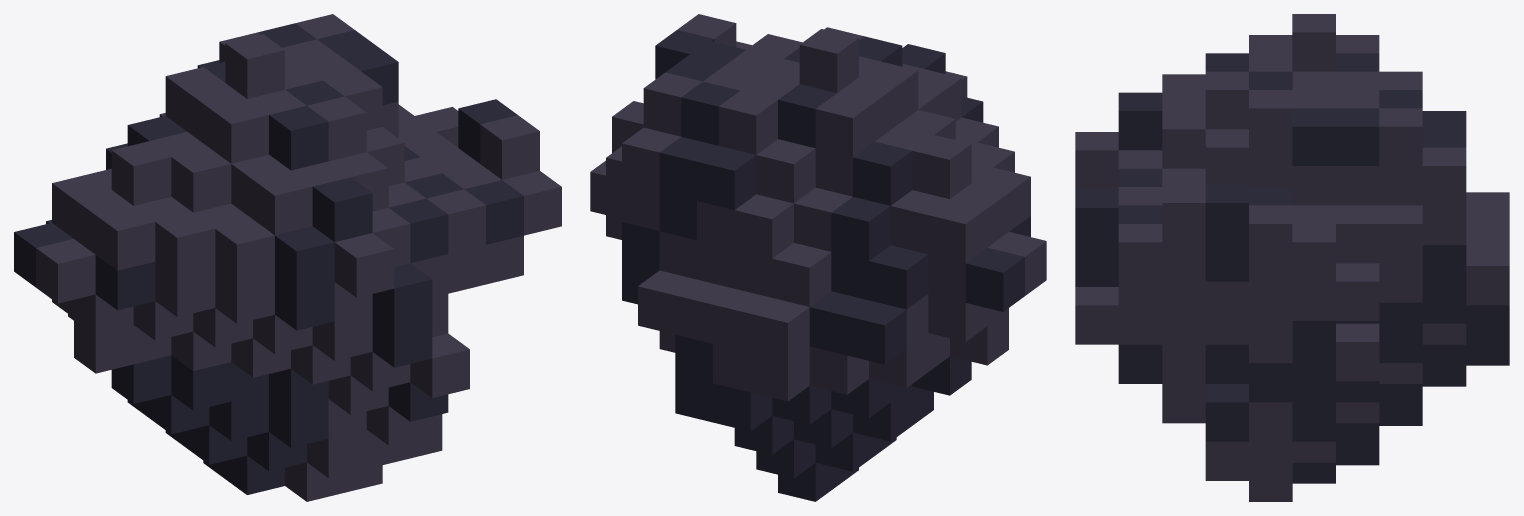
File: meteoro-3.obj
The picture shows the model from 3 angles, left to right: view 1: azimuth 30°, elevation 25°; view 2: azimuth 150°, elevation 25°; view 3: azimuth 270°, elevation 25°; orthographic projection.
Bounding box in the file's own units: 1.1 × 1.1 × 1.
1 material, 1 textured.
